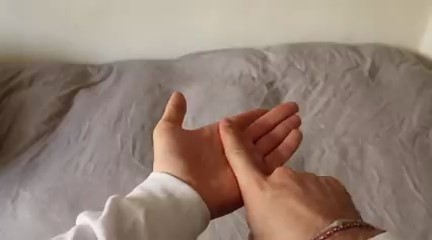L: (142, 80, 382, 240)
